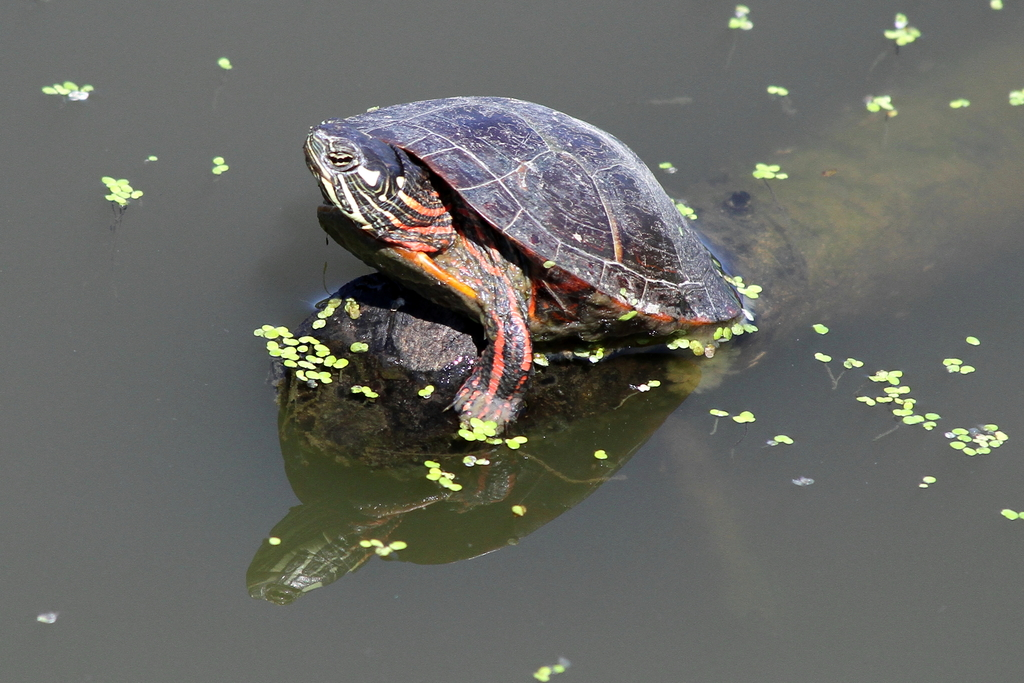Sea turtles: (302, 91, 777, 442)
